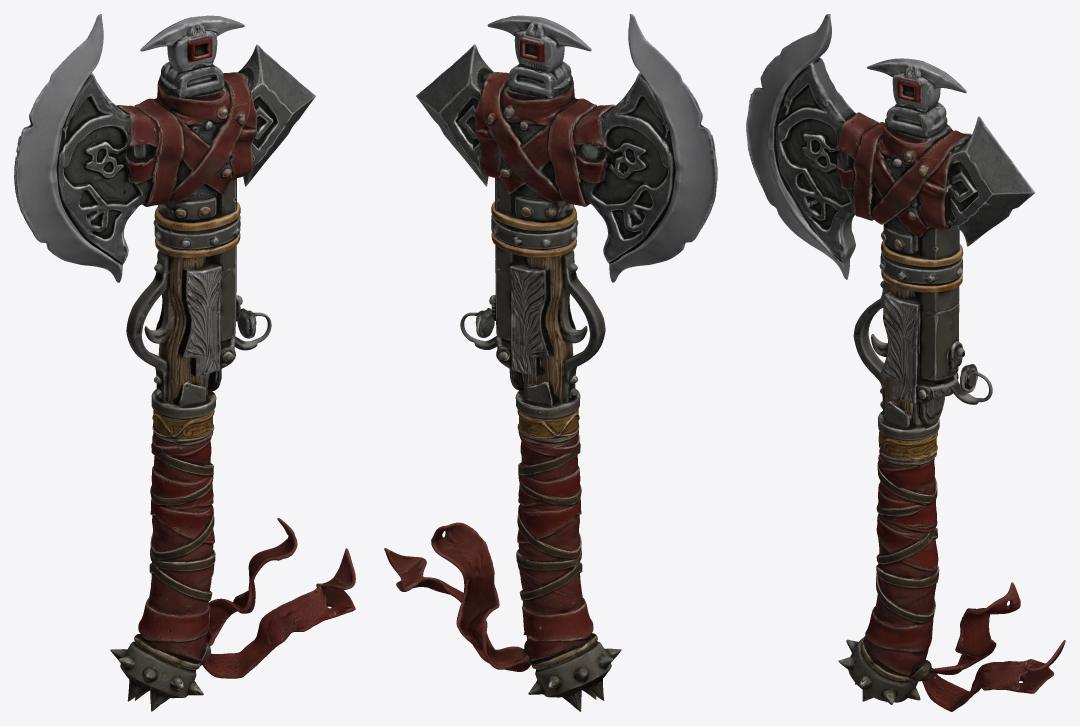
Rendered from wankai-iron-hammer-original.glb.
3 renders of one model, left to right at view 1: azimuth 30°, elevation 25°; view 2: azimuth 150°, elevation 25°; view 3: azimuth 330°, elevation 25°, orthographic. The views are drawn at different scales.
Visible parts, largest first — view 1: tripo_node_05909e07-10f3-4462-96ce-a8b06890b6a4; view 2: tripo_node_05909e07-10f3-4462-96ce-a8b06890b6a4; view 3: tripo_node_05909e07-10f3-4462-96ce-a8b06890b6a4.
Part boxes in pixels (left/top/right/bottom): tripo_node_05909e07-10f3-4462-96ce-a8b06890b6a4: left=14, top=14, right=355, bottom=711; tripo_node_05909e07-10f3-4462-96ce-a8b06890b6a4: left=384, top=14, right=717, bottom=711; tripo_node_05909e07-10f3-4462-96ce-a8b06890b6a4: left=746, top=14, right=1065, bottom=711.
Bounding box in the file's own units: 0.4946 × 0.9987 × 0.1255.
1 material, 1 textured.
